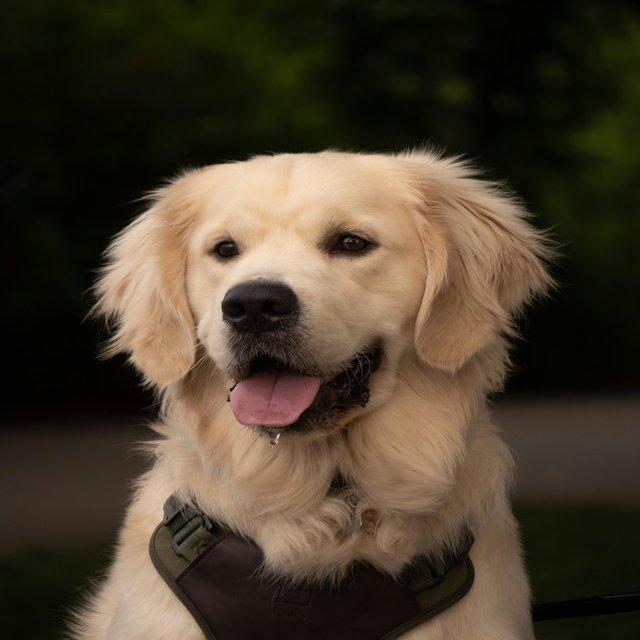retriever: (62, 144, 562, 638)
